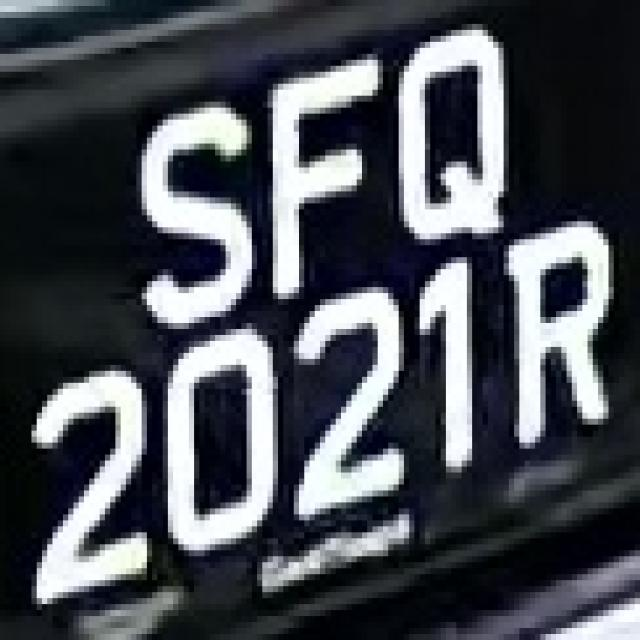0: (158, 323, 288, 562)
1: (420, 258, 488, 514)
2: (26, 365, 168, 616), (283, 281, 425, 520)
F: (252, 54, 378, 311)
Q: (393, 18, 530, 269)
R: (504, 233, 634, 473)
S: (131, 96, 247, 335)
